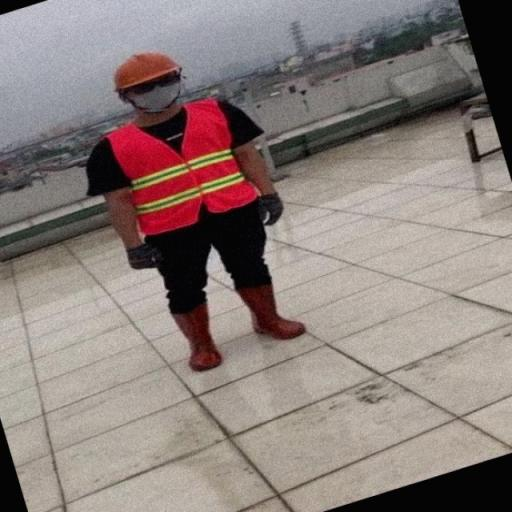Person: (74, 33, 322, 382)
boots: (233, 282, 310, 354), (167, 298, 224, 379)
gloves: (122, 240, 163, 277), (257, 193, 292, 233)
goggles: (121, 76, 181, 98)
helmet: (106, 49, 186, 94)
vest: (100, 99, 264, 234)
